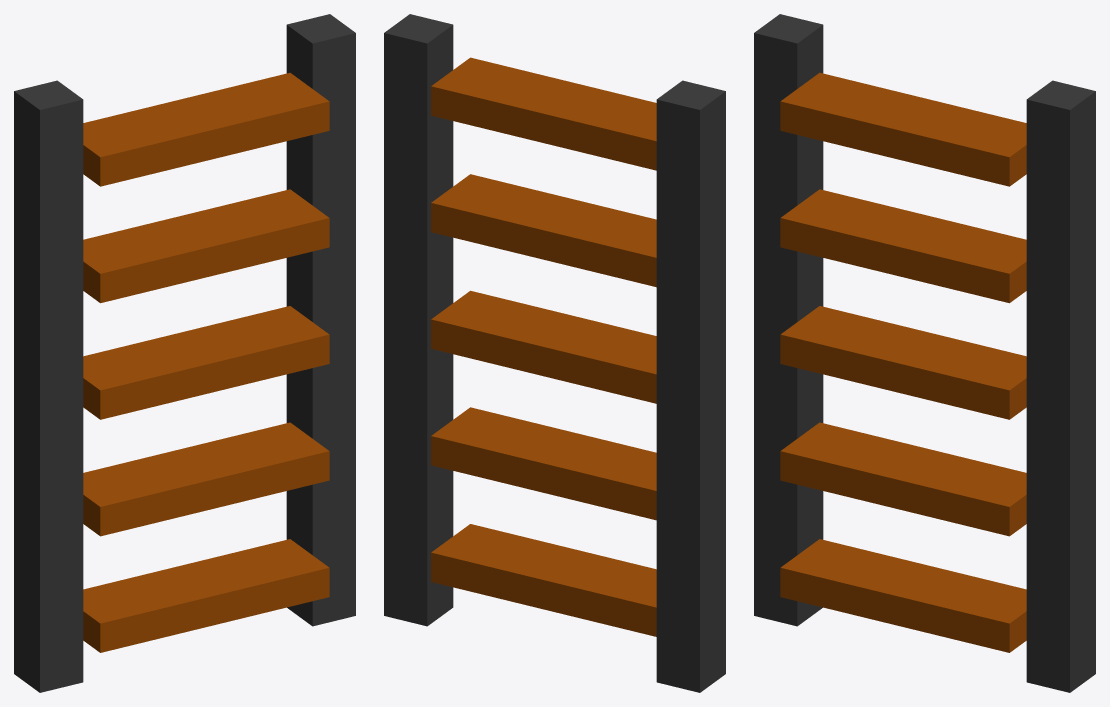
Rendered from Ladder.fbx.
The picture shows the model from 3 angles, left to right: view 1: azimuth 30°, elevation 25°; view 2: azimuth 150°, elevation 25°; view 3: azimuth 330°, elevation 25°; orthographic projection.
Parts seen in each view (by area): view 1: Cube; view 2: Cube; view 3: Cube.
Boxes of the visible parts, x1,y1,x2,y2 form: Cube: (14,14,355,692); Cube: (384,14,725,692); Cube: (754,14,1095,692).
Bounding box in the file's own units: 0.5674 × 1 × 0.1335.
